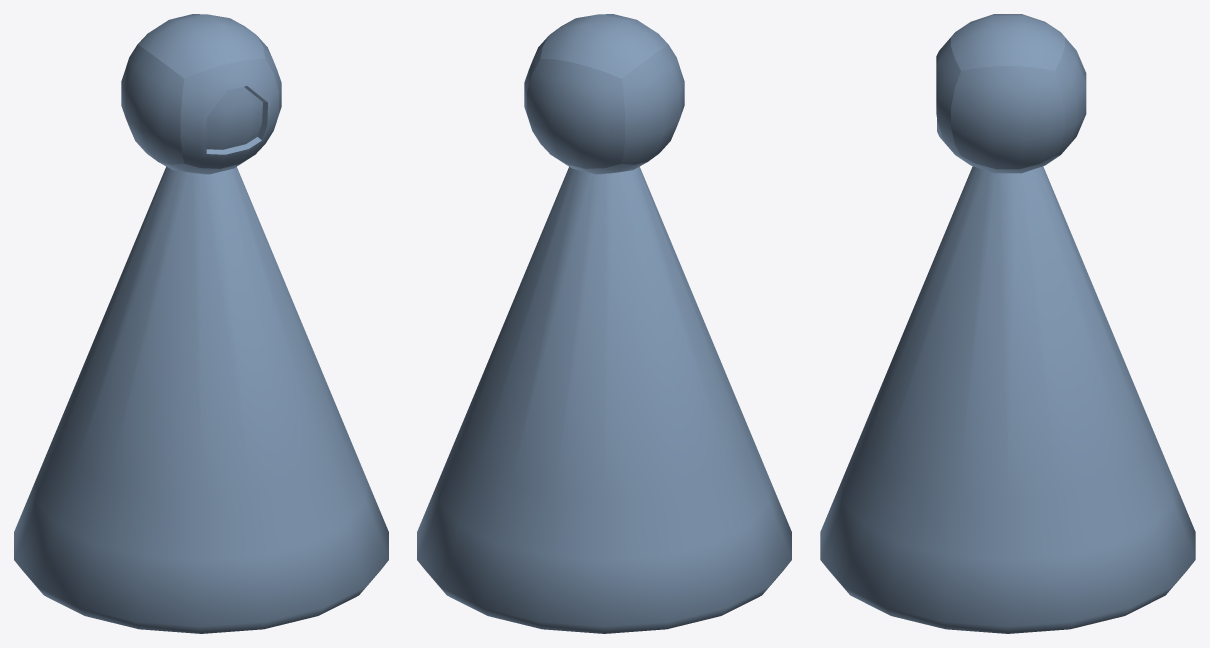
Rendered from rcBotHackyAssy.FBX.
3 views of the same model, side by side, from view 1: azimuth 30°, elevation 25°; view 2: azimuth 150°, elevation 25°; view 3: azimuth 270°, elevation 25° (orthographic).
Visible parts, largest first — view 1: botHackyBody, botHackyhead, botHackyFace; view 2: botHackyBody, botHackyhead; view 3: botHackyBody, botHackyhead.
Boxes of the visible parts, x1,y1,x2,y2 form: botHackyBody: (14,166,388,633); botHackyhead: (121,14,281,174); botHackyFace: (206,87,262,149); botHackyBody: (417,166,791,633); botHackyhead: (524,14,684,174); botHackyBody: (820,166,1195,633); botHackyhead: (936,14,1086,173).
Size of the model in its own units: 0.5861 by 0.9781 by 0.5772.
